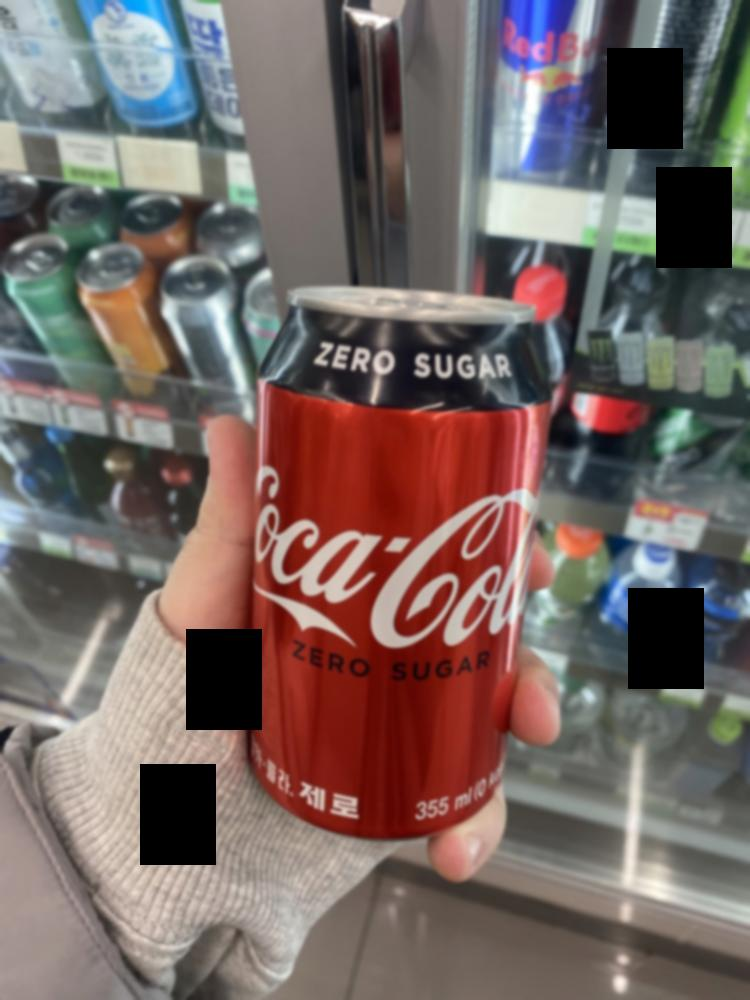cocacola_zero: (253, 273, 525, 862)
